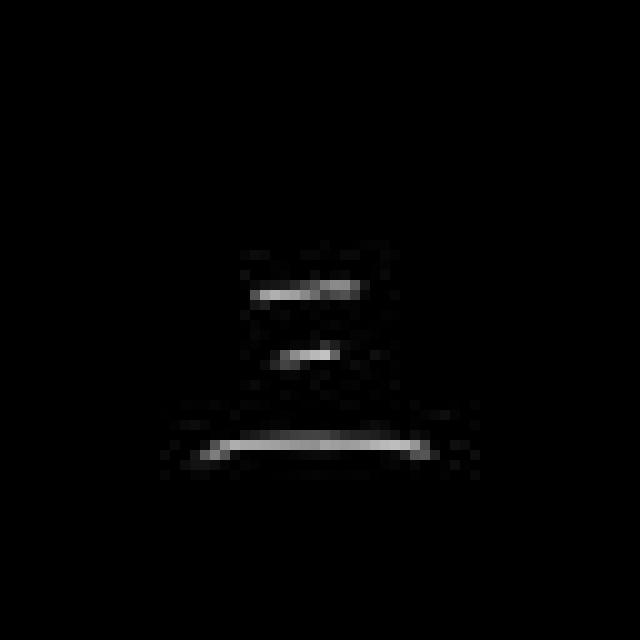3 -three-: (186, 268, 444, 488)
